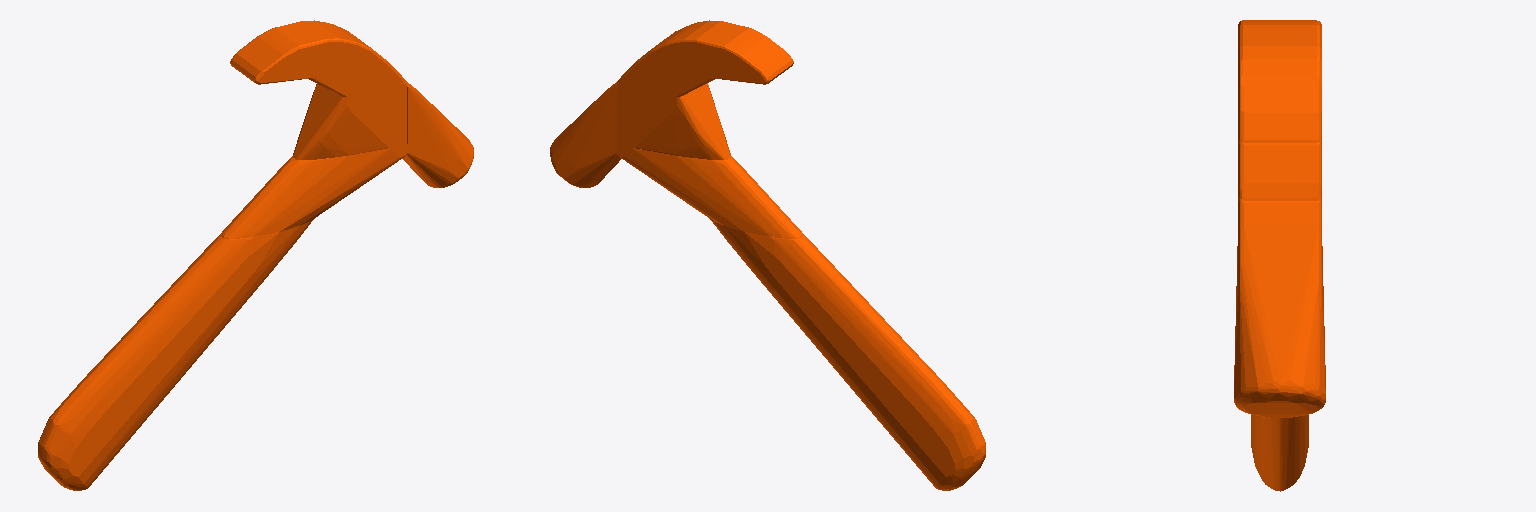
The robot description file, URDF, robot "top_watertight_tiny":
<?xml version="1.0" ?>
<robot name="top_watertight_tiny">
   <material name="obj_color">
      <color rgba="1.0 0.423529411765 0.0392156862745 1.0"/>
   </material>
   <link name="object">
      <inertial>
         <origin rpy="3.601972253071048e-05 0.0003325250853400229 0.0003652273379983654" xyz="0.002394369914335455 -2.711273033165573e-07 -0.01364211678618698"/>
         <mass value="0.1207206214920569"/>
         <inertia ixx="0.0003323302974248676" ixy="8.813908919094007e-10" ixz="7.597218468955708e-06" iyy="0.0003652273378830001" iyz="5.276065557451238e-09" izz="3.621451056123109e-05"/>
      </inertial>
      <visual>
         <origin rpy="0 0 0" xyz="0 0 0"/>
         <geometry>
            <mesh filename="top_watertight_tiny.obj" scale="1 1 1"/>
         </geometry>
         <material name="obj_color"/>
      </visual>
      <collision>
         <origin rpy="0 0 0" xyz="0 0 0"/>
         <geometry>
            <mesh filename="top_watertight_tiny.obj" scale="1 1 1"/>
         </geometry>
      </collision>
   </link>
</robot>

--- What the picture shows (computed from the rendered views, not written in the file) ---
Views: 3 orthographic renders of the robot side by side, from view 1: azimuth 30°, elevation 25°; view 2: azimuth 150°, elevation 25°; view 3: azimuth 270°, elevation 25°.
Robot: top_watertight_tiny — 1 links, 0 joints (none); root link object; default pose: every joint at zero.
Visible links, largest first — view 1: object; view 2: object; view 3: object.
Boxes of the visible links, <box> form: object: <box>38,20,473,490</box>; object: <box>550,20,985,490</box>; object: <box>1234,20,1325,491</box>.
Size in the robot's own frame: 0.1582 by 0.019 by 0.1414 metres.
Meshes: 1 distinct files referenced, 1 mesh visuals loaded (1 OBJ).